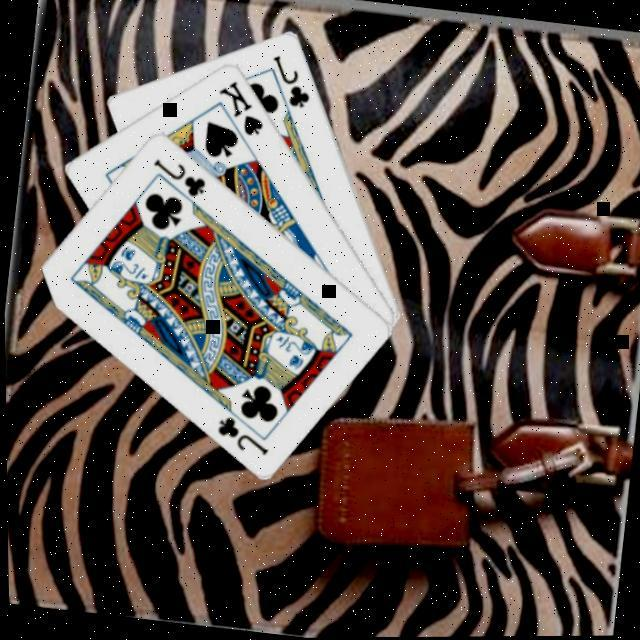JC: (264, 52, 319, 113), (209, 412, 275, 460), (146, 156, 211, 203)
KS: (210, 77, 272, 142)
